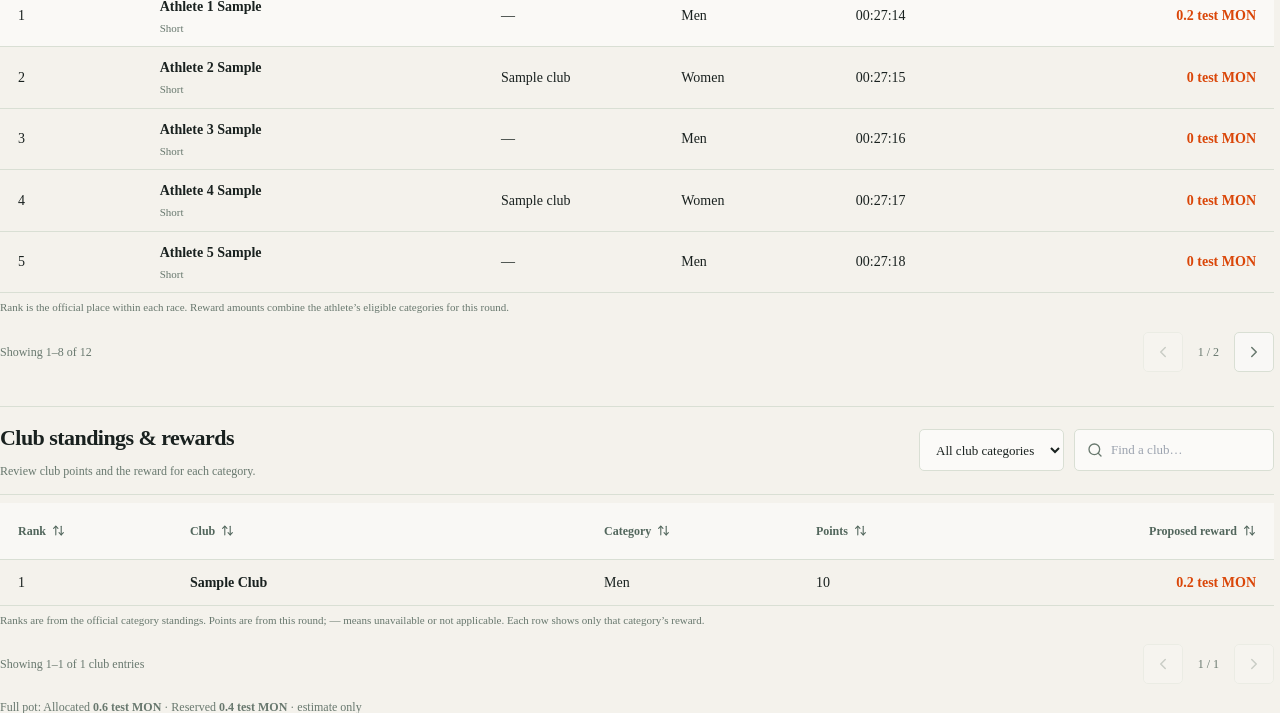
Test: clears combined athlete filters, resets pagination and preserves full-pot amounts and club search
The image size is (1280, 713).
(page scrolled)
Expected: the button "Clear athlete filters" is not shown
In the field labelled "Find a club": (1186, 450) [1111,440,1261,460], type "Sample"
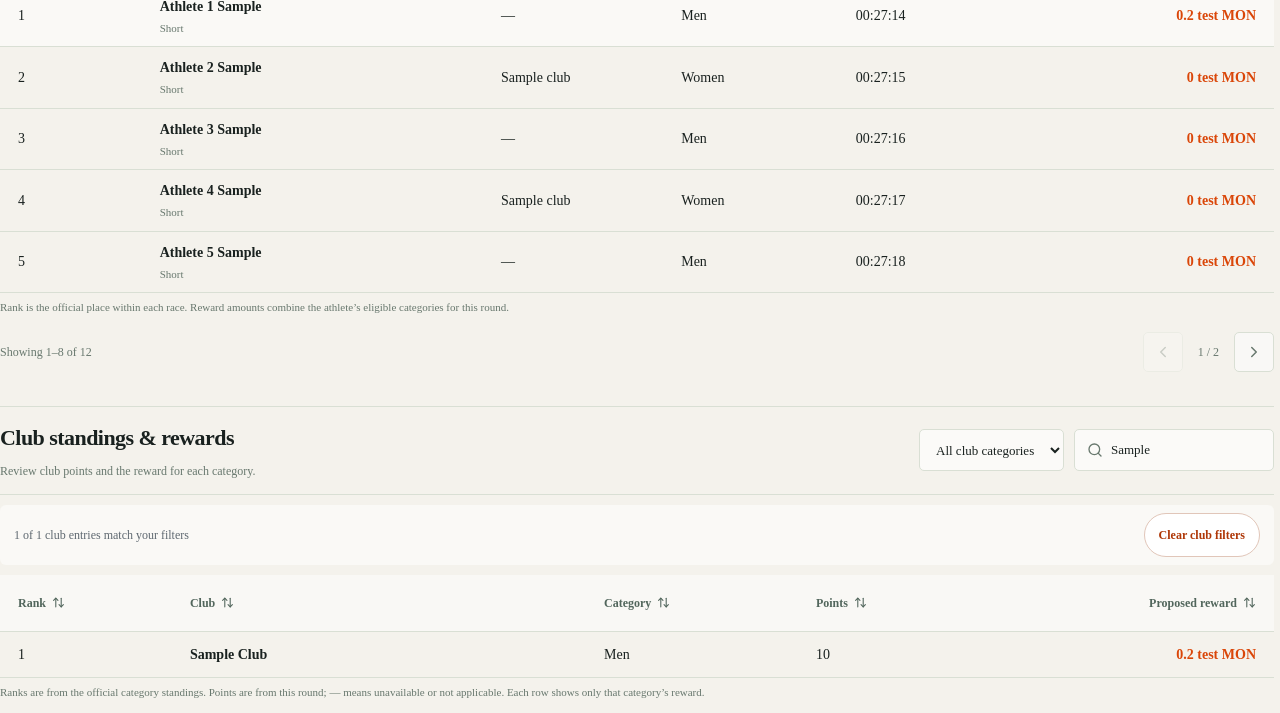
Click the button named "Next results": (1254, 352) [1234,332,1274,372]
(page scrolled)
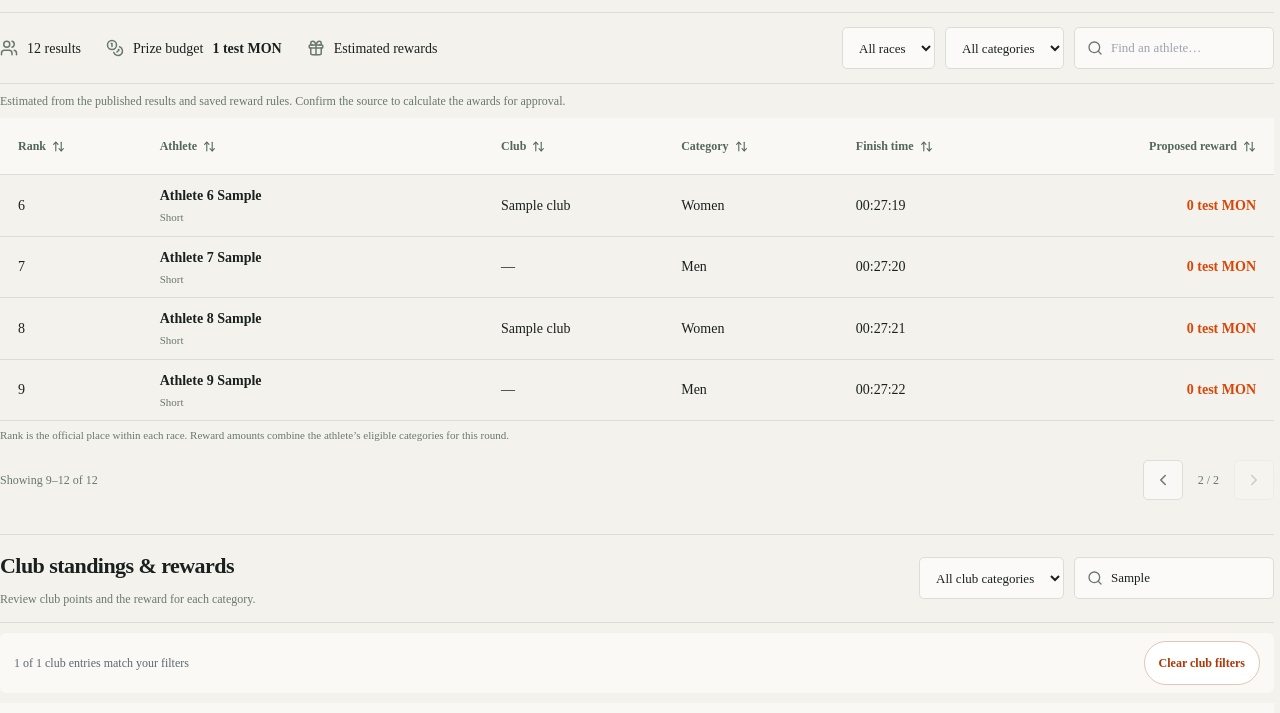
Select "Long" in the dropdown named "Race": (888, 48) [842,27,935,69]
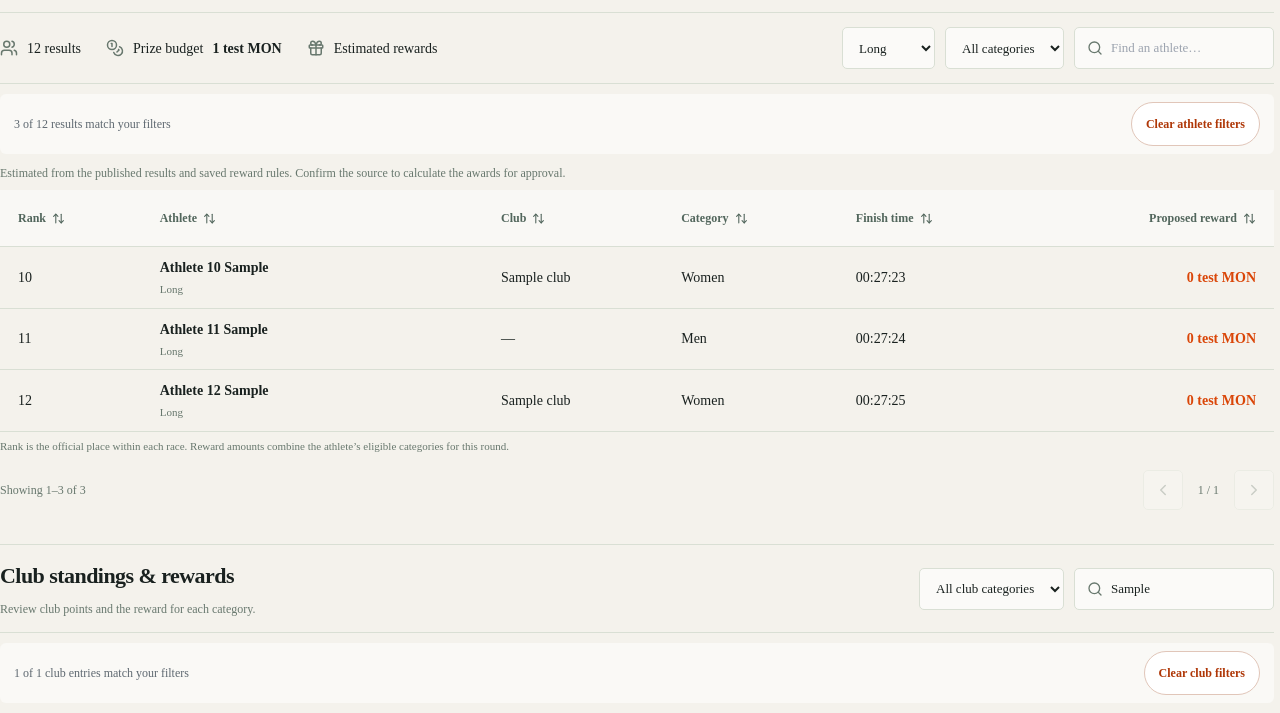
Select "Women" in the dropdown named "Category": (1004, 48) [945,27,1064,69]
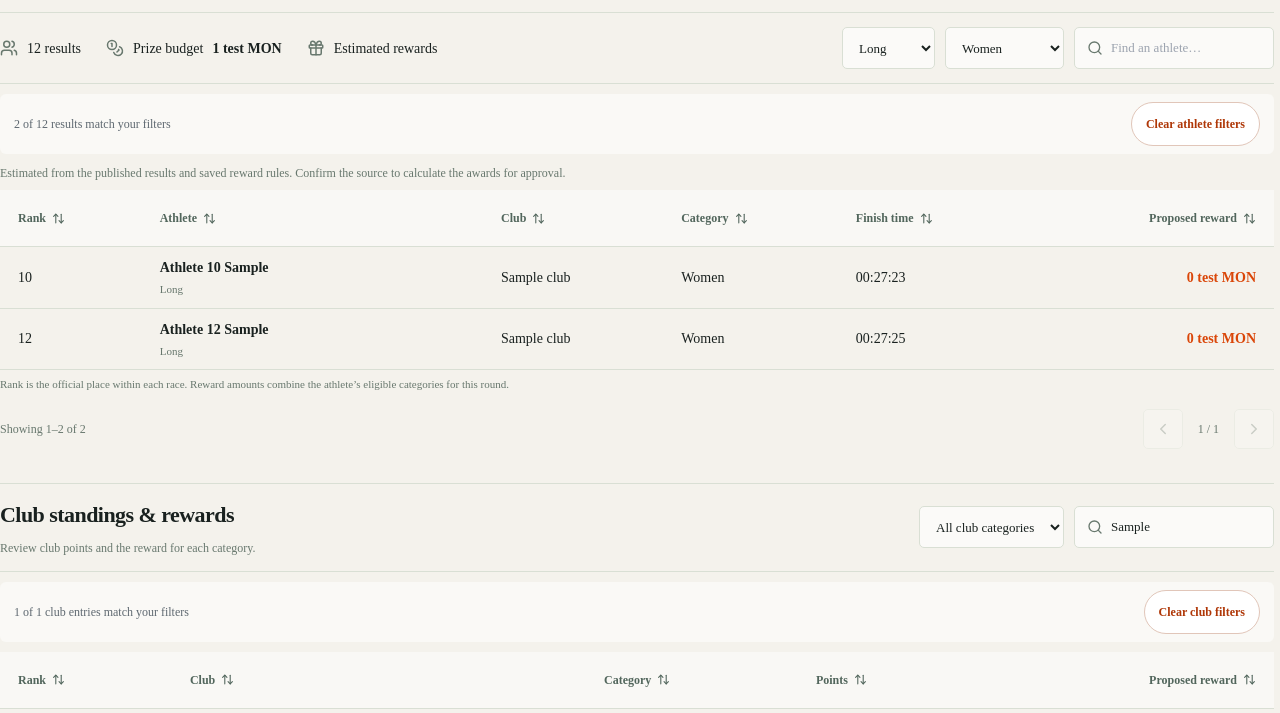
In the field labelled "Find an athlete": (1186, 48) [1111,38,1261,58], type "missing"
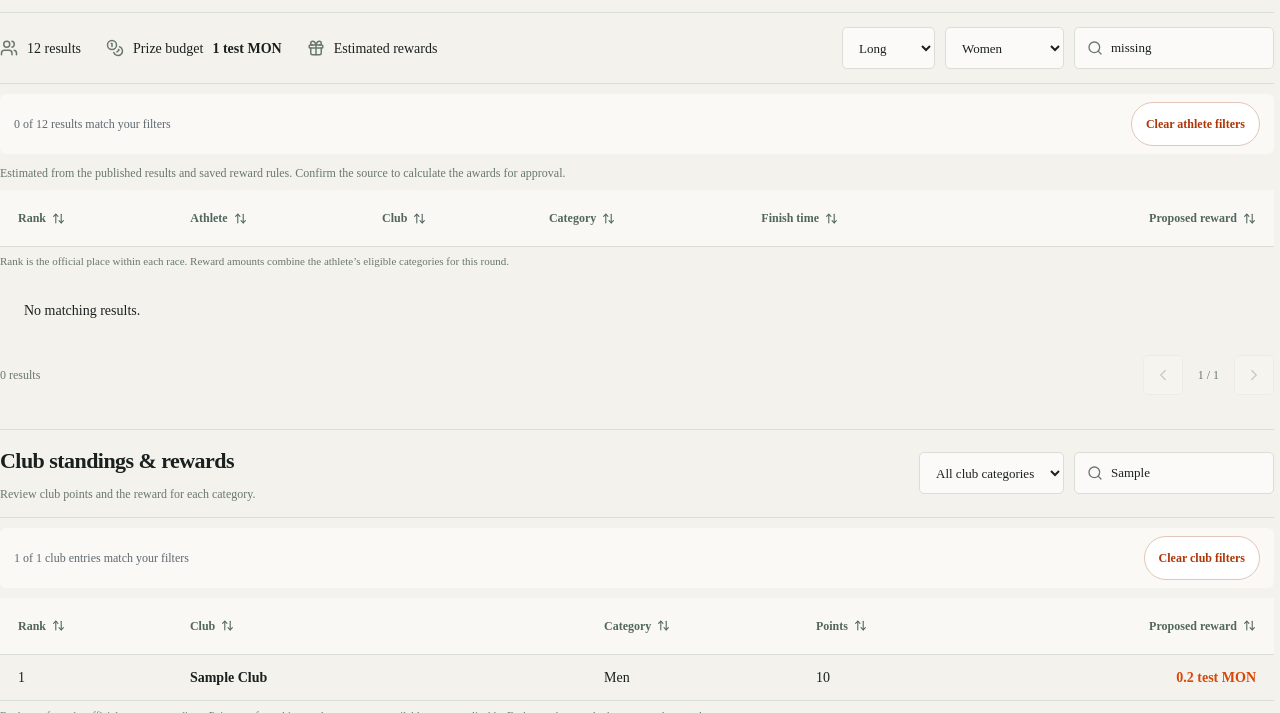
Expected: the text "0 of 12 results match your filters" is shown, [14,115,171,133]
Expected: the text "0 results" is shown, [0,366,40,384]
Click the button "Clear athlete filters": (1195, 124) [1131,102,1260,146]
(page scrolled)
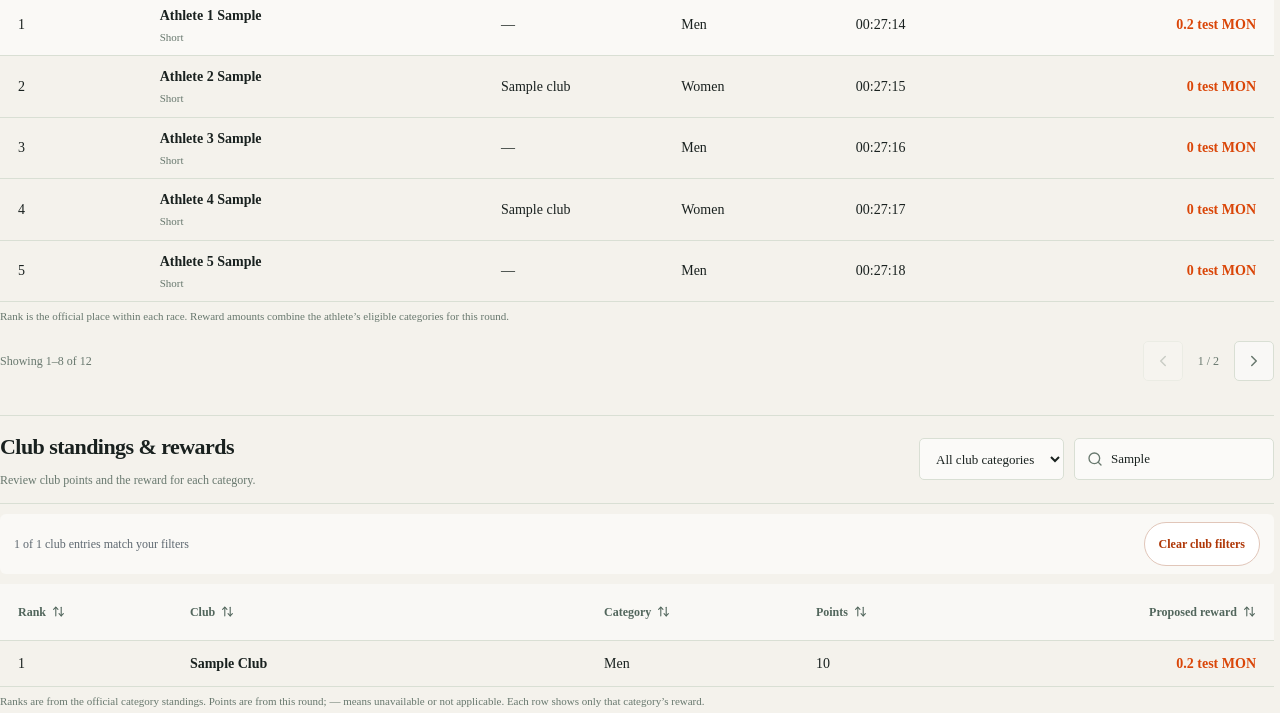
Expected: the button named "Previous results" is disabled, [1143,340,1183,380]
Expected: the text "Showing 1–8 of 12" is shown, [0,352,92,370]
Expected: the button "Clear athlete filters" is gone
